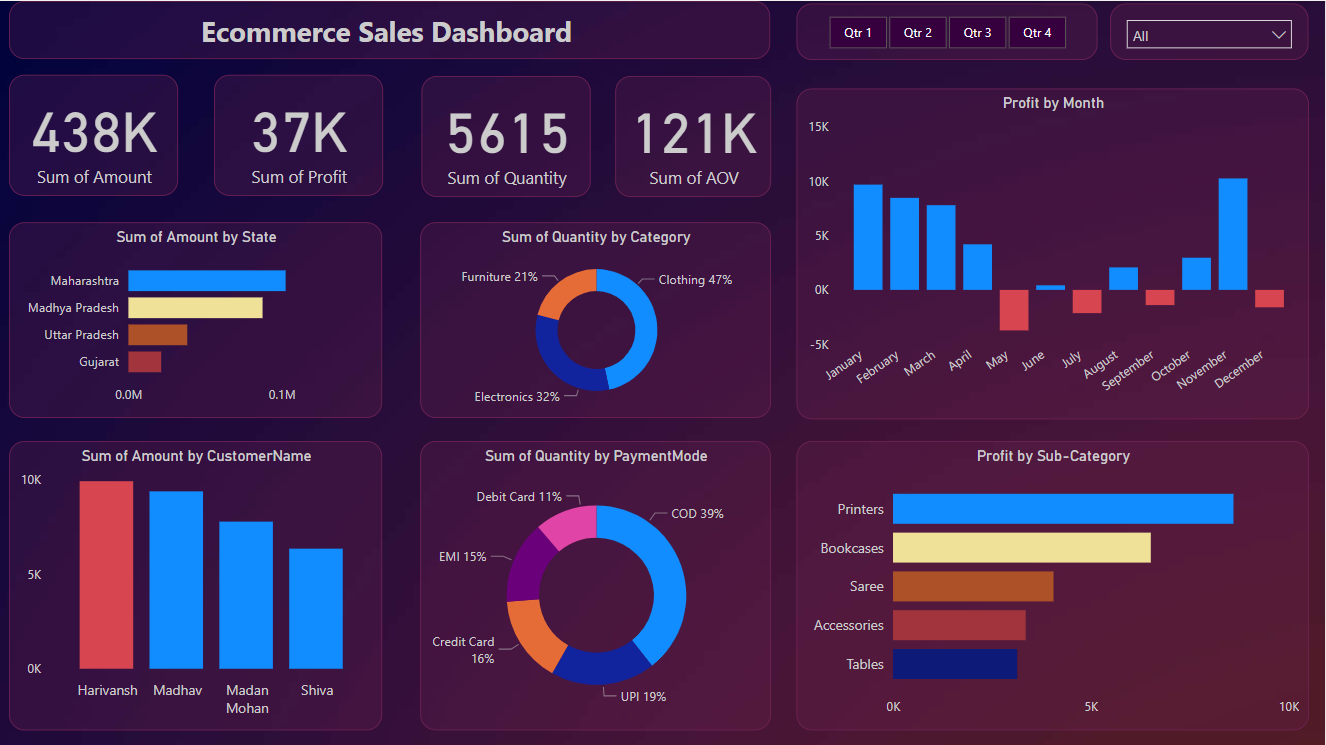

The dashboard page shown, as its layout file describes it:
{"tool":"powerbi","page":{"name":"project management report","canvas":[1280,720],"ordinal":0},"visuals":[{"type":"textbox","box":[10,0,734,56],"z":0},{"type":"columnChart","title":"Profit by Month","fields":{"Category":["Orders.Order Date.Variation.Date Hierarchy.Month1"],"Y":["Details.Profit"]},"box":[769,84,494,319],"z":1000},{"type":"barChart","title":"Profit by Sub-Category","fields":{"Category":["Details.Sub-Category"],"Y":["Details.Profit"]},"box":[769,424,494,279],"z":2000},{"type":"donutChart","title":"Sum of Quantity by Category","fields":{"Category":["Details.Category"],"Y":["Details.Quantity"]},"box":[406,214,338,189],"z":3000},{"type":"donutChart","title":"Sum of Quantity by PaymentMode","fields":{"Y":["Details.Quantity"],"Category":["Details.PaymentMode"]},"box":[406,424,338,279],"z":4000},{"type":"card","fields":{"Values":["Details.Amount"]},"box":[10,71,163,117],"z":5000},{"type":"card","fields":{"Values":["Details.Quantity"]},"box":[408,72,163,117],"z":6000},{"type":"card","fields":{"Values":["Details.Profit"]},"box":[207,71,163,117],"z":7000},{"type":"card","fields":{"Values":["Details.AOV"]},"box":[594,72,150,117],"z":8000},{"type":"barChart","fields":{"Category":["Orders.State"],"Y":["Details.Amount"]},"box":[10,214,360,189],"z":9000},{"type":"columnChart","fields":{"Category":["Orders.CustomerName"],"Y":["Details.Amount"]},"box":[10,424,360,279],"z":10000},{"type":"slicer","fields":{"Values":["Orders.Order Date.Variation.Date Hierarchy.Quarter"]},"box":[769,2,290,54],"z":11000},{"type":"slicer","fields":{"Values":["Orders.State"]},"box":[1072,2,191,54],"z":12000}]}

Visuals, with their boxes in screenshot pixels (x1, y1, x2, y2), scaled from the page's 1280x720 canvas onto the 1326x745 screenshot:
textbox: 10, 0, 771, 58
"Profit by Month" columnChart: 797, 87, 1308, 417
"Profit by Sub-Category" barChart: 797, 439, 1308, 727
"Sum of Quantity by Category" donutChart: 421, 221, 771, 417
"Sum of Quantity by PaymentMode" donutChart: 421, 439, 771, 727
card - Details.Amount: 10, 73, 179, 195
card - Details.Quantity: 423, 74, 592, 196
card - Details.Profit: 214, 73, 383, 195
card - Details.AOV: 615, 74, 771, 196
barChart - Orders.State x Details.Amount: 10, 221, 383, 417
columnChart - Orders.CustomerName x Details.Amount: 10, 439, 383, 727
slicer - Orders.Order Date.Variation.Date Hierarchy.Quarter: 797, 2, 1097, 58
slicer - Orders.State: 1111, 2, 1308, 58
